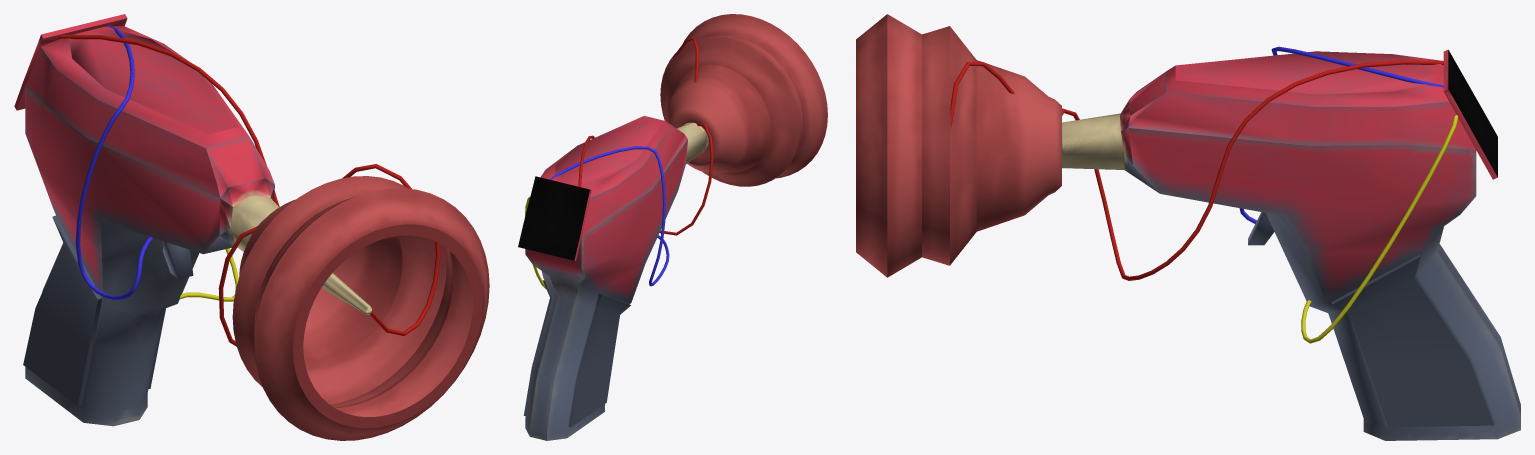
Rendered from SonicGun.fbx.
3 views of the same model, side by side, from view 1: azimuth 30°, elevation 25°; view 2: azimuth 150°, elevation 25°; view 3: azimuth 270°, elevation 25° (orthographic). The views are drawn at different scales.
Parts seen in each view (by area): view 1: Laser_gun, RedWire, BlueWire, Gun_trigger; view 2: Laser_gun, BlueWire, RedWire; view 3: Laser_gun, RedWire, YellowWire, BlueWire.
Part boxes in pixels (left/top/right/bottom): Laser_gun: left=14, top=14, right=489, bottom=440; RedWire: left=58, top=34, right=440, bottom=346; BlueWire: left=75, top=25, right=153, bottom=299; Gun_trigger: left=162, top=241, right=193, bottom=278; Laser_gun: left=518, top=14, right=827, bottom=440; BlueWire: left=550, top=146, right=669, bottom=286; RedWire: left=578, top=38, right=713, bottom=235; Laser_gun: left=856, top=14, right=1520, bottom=440; RedWire: left=950, top=60, right=1443, bottom=280; YellowWire: left=1301, top=115, right=1458, bottom=343; BlueWire: left=1239, top=46, right=1443, bottom=223.
Bounding box in the file's own units: 19.73 × 32.93 × 49.66.
